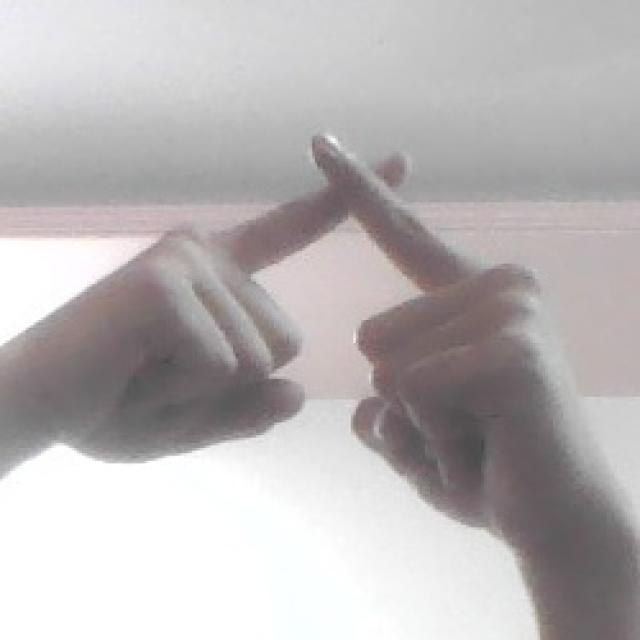Alphabet-X: (0, 104, 568, 546)
